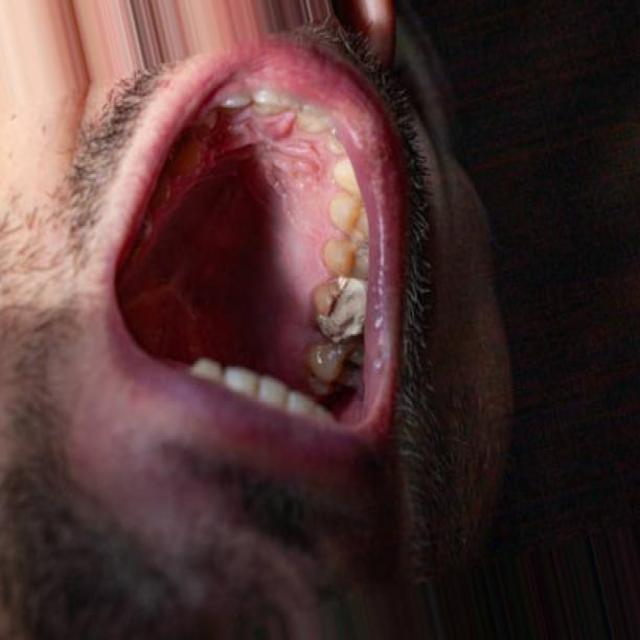caries: (306, 273, 374, 363)
